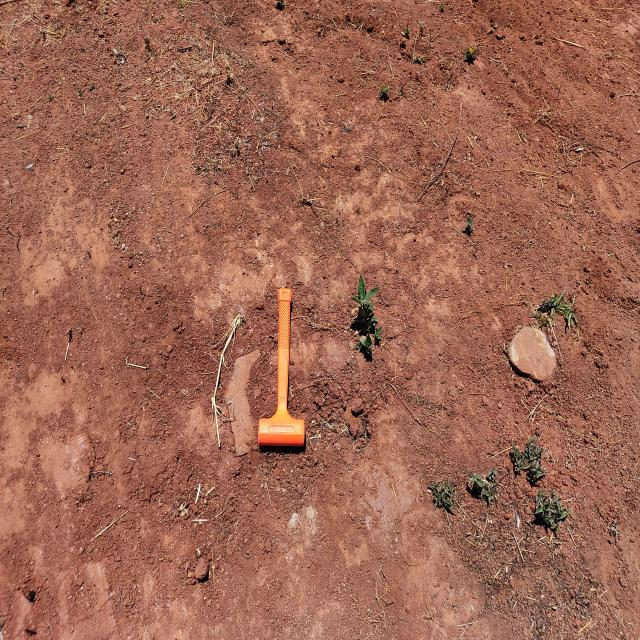Orange_hammer: (257, 287, 305, 448)
